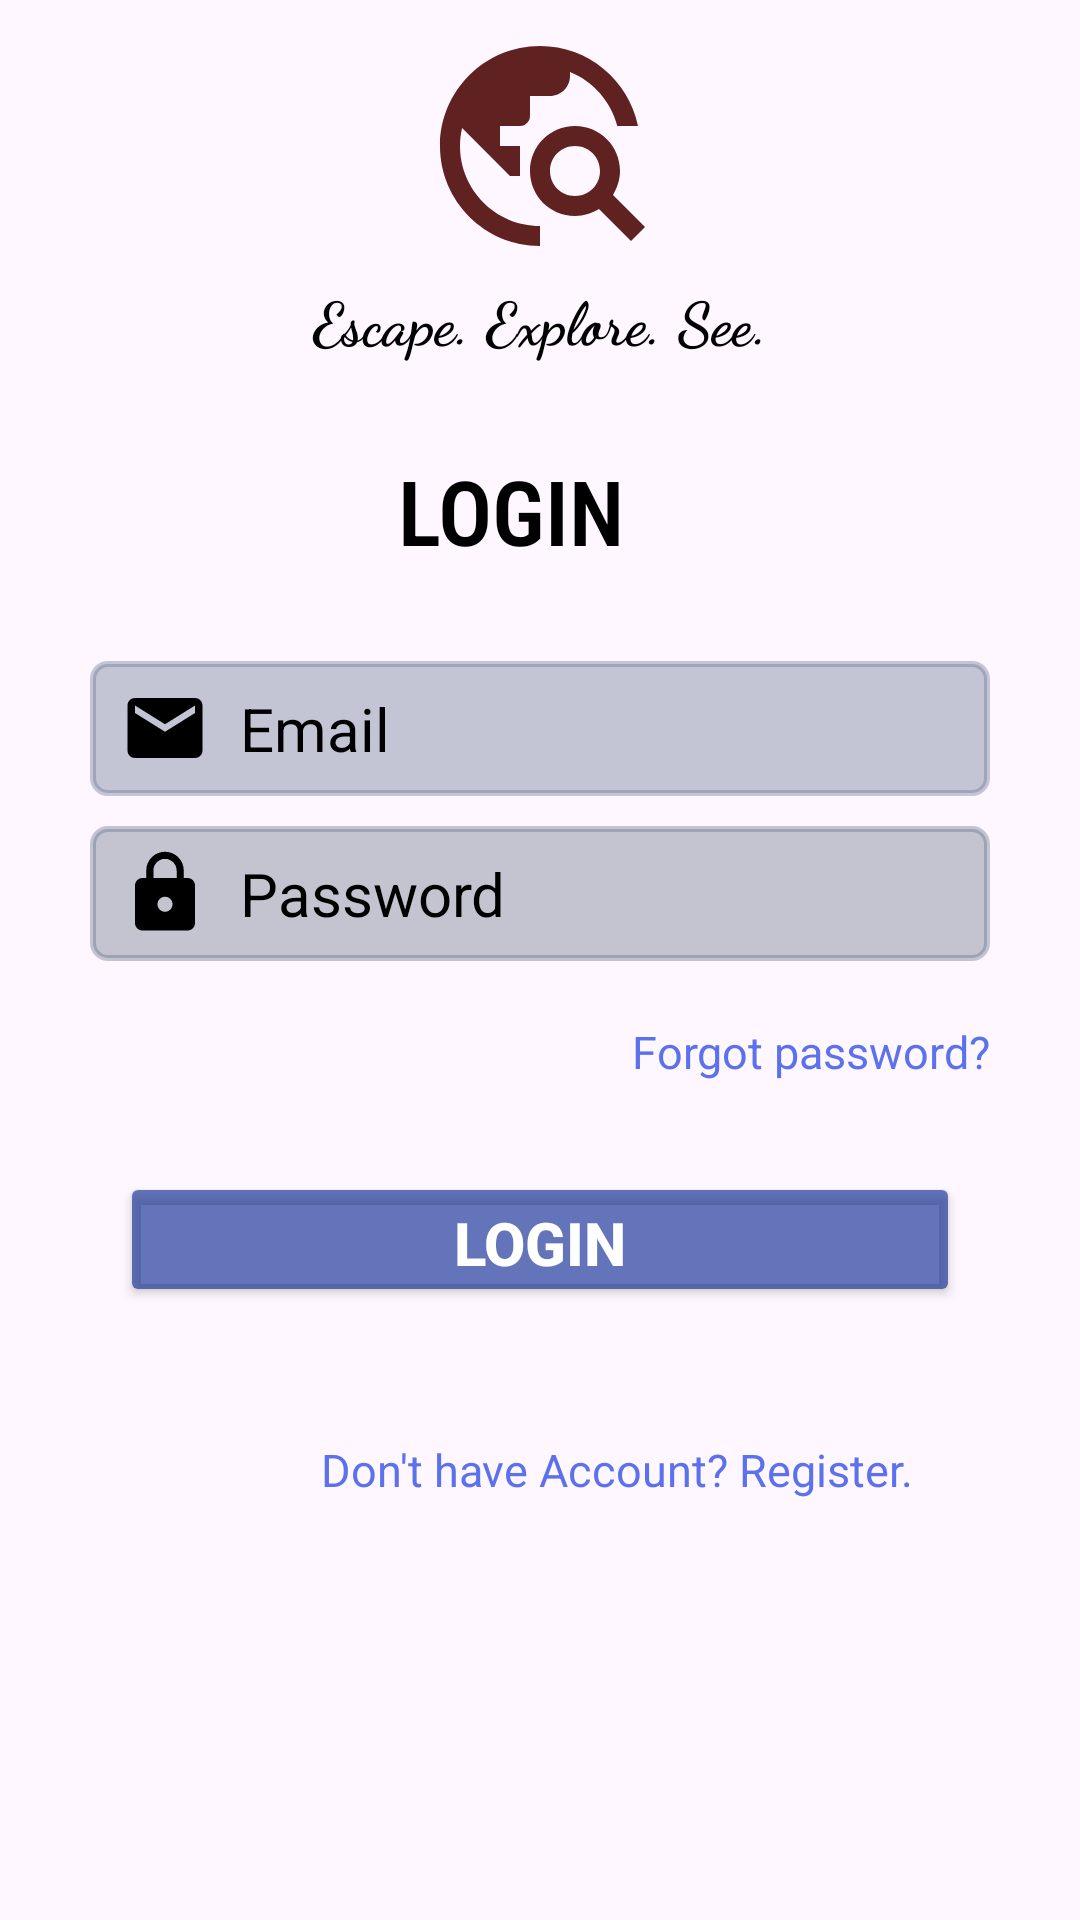

Icons on this 1080*1920 Android screen, each with its box as box=[x1, y1, x2, y2]:
travel explore: box=[440, 46, 645, 246]
